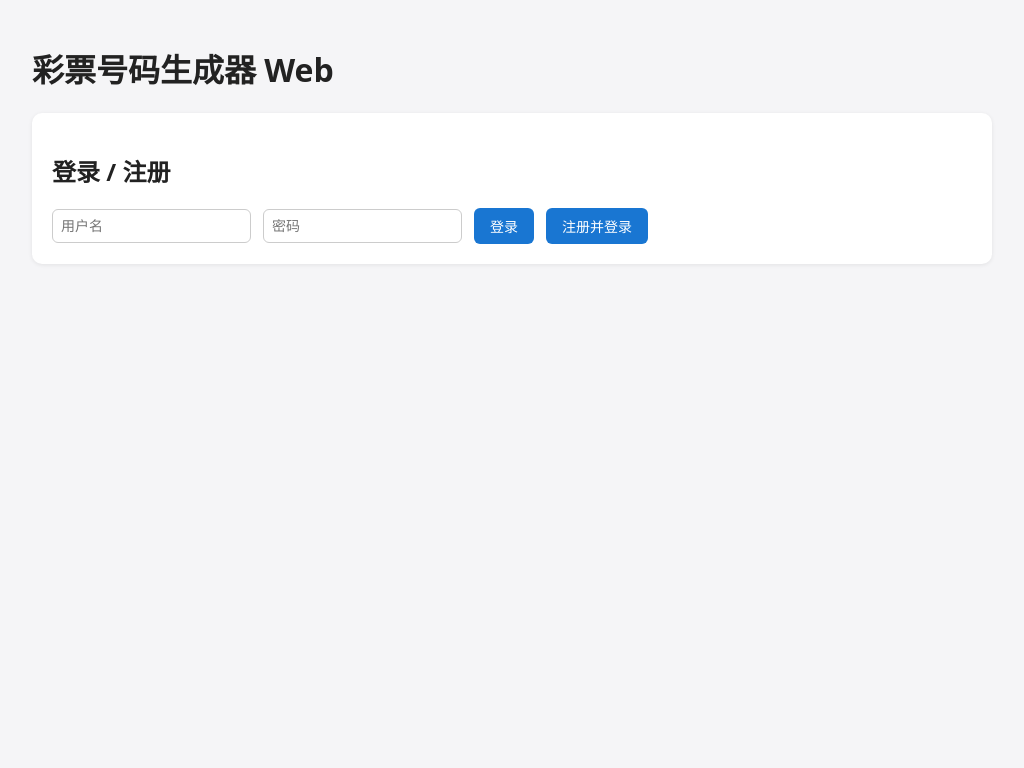
Test: App 外壳 › 登录后 getMe 失败时 catch 分支将 role 置空且不报错
The image size is (1024, 768).
Type "alice" into the field with placeholder "用户名" at (152, 226), box [52,209,251,243]
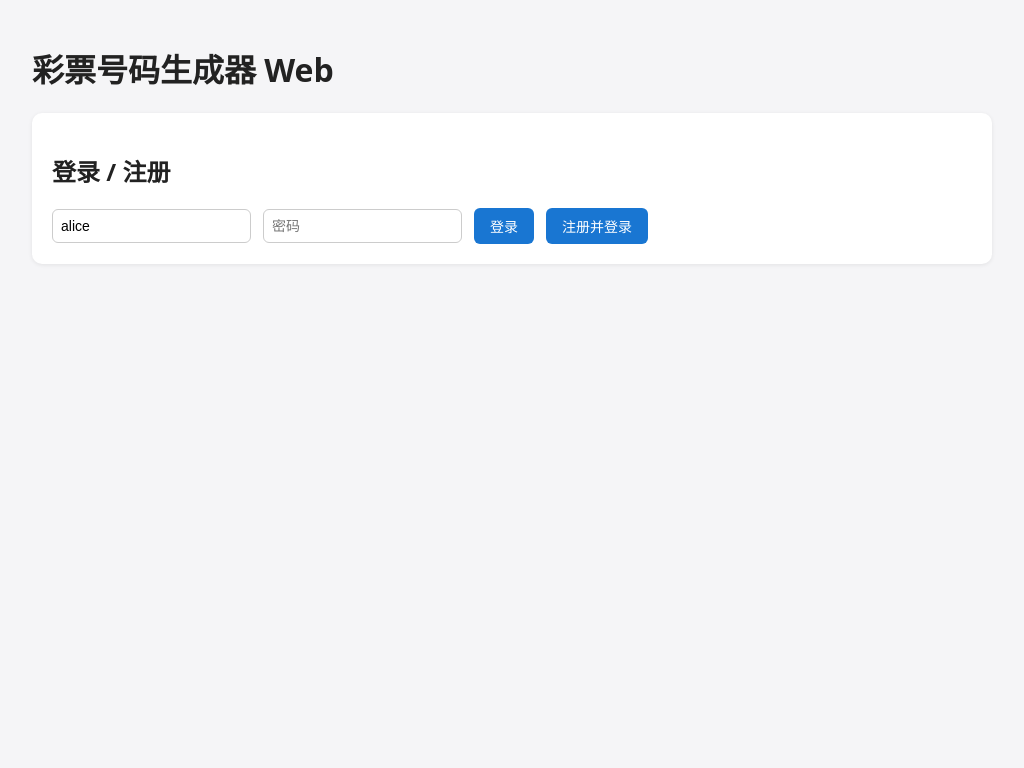
Type "pw" into the password field with placeholder "密码" at (362, 226), box [263,209,462,243]
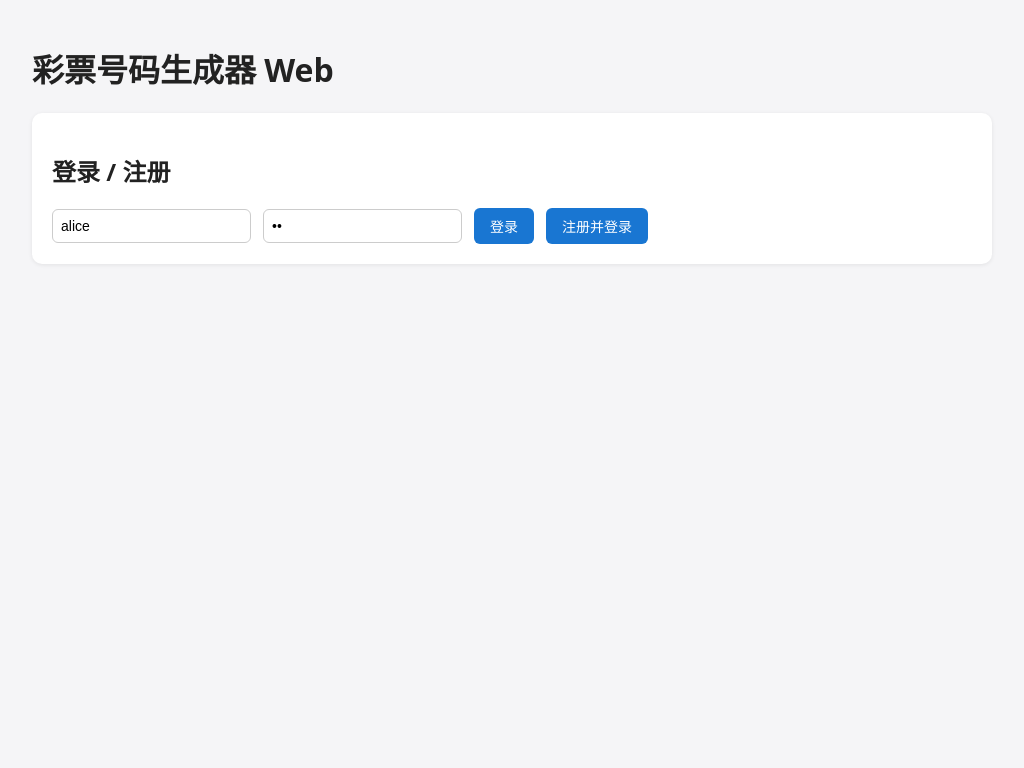
Click the button "登录" at (504, 226), box [474,208,534,244]
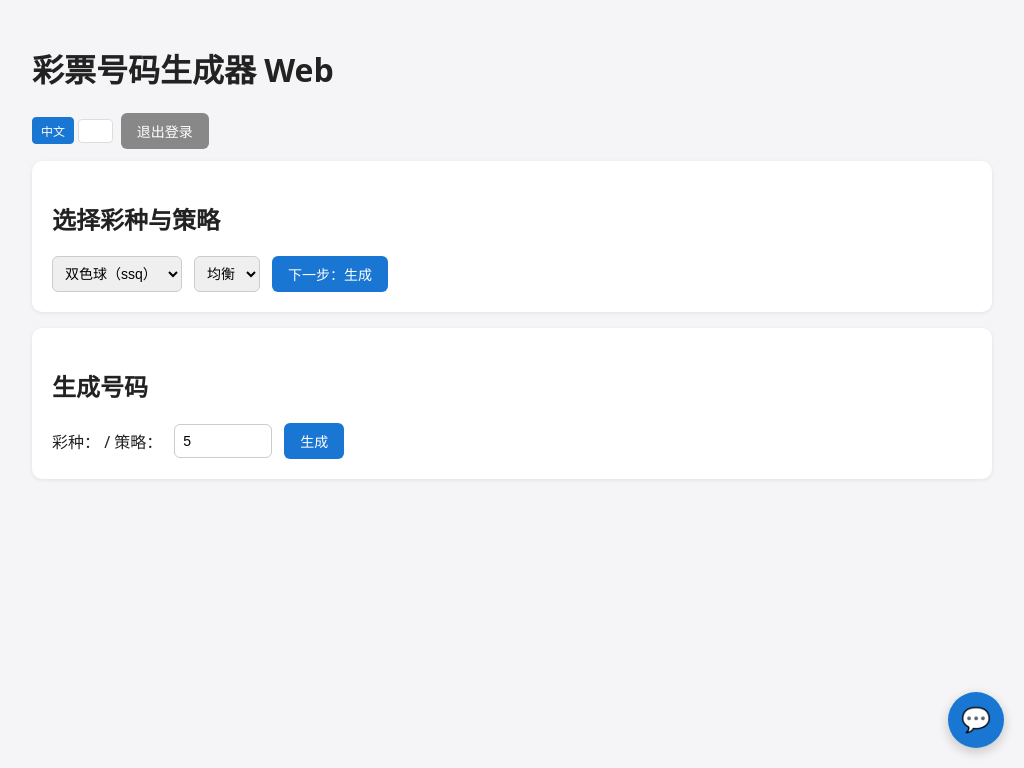
Expected: the text "选择彩种与策略" is shown, [52,203,220,236]
